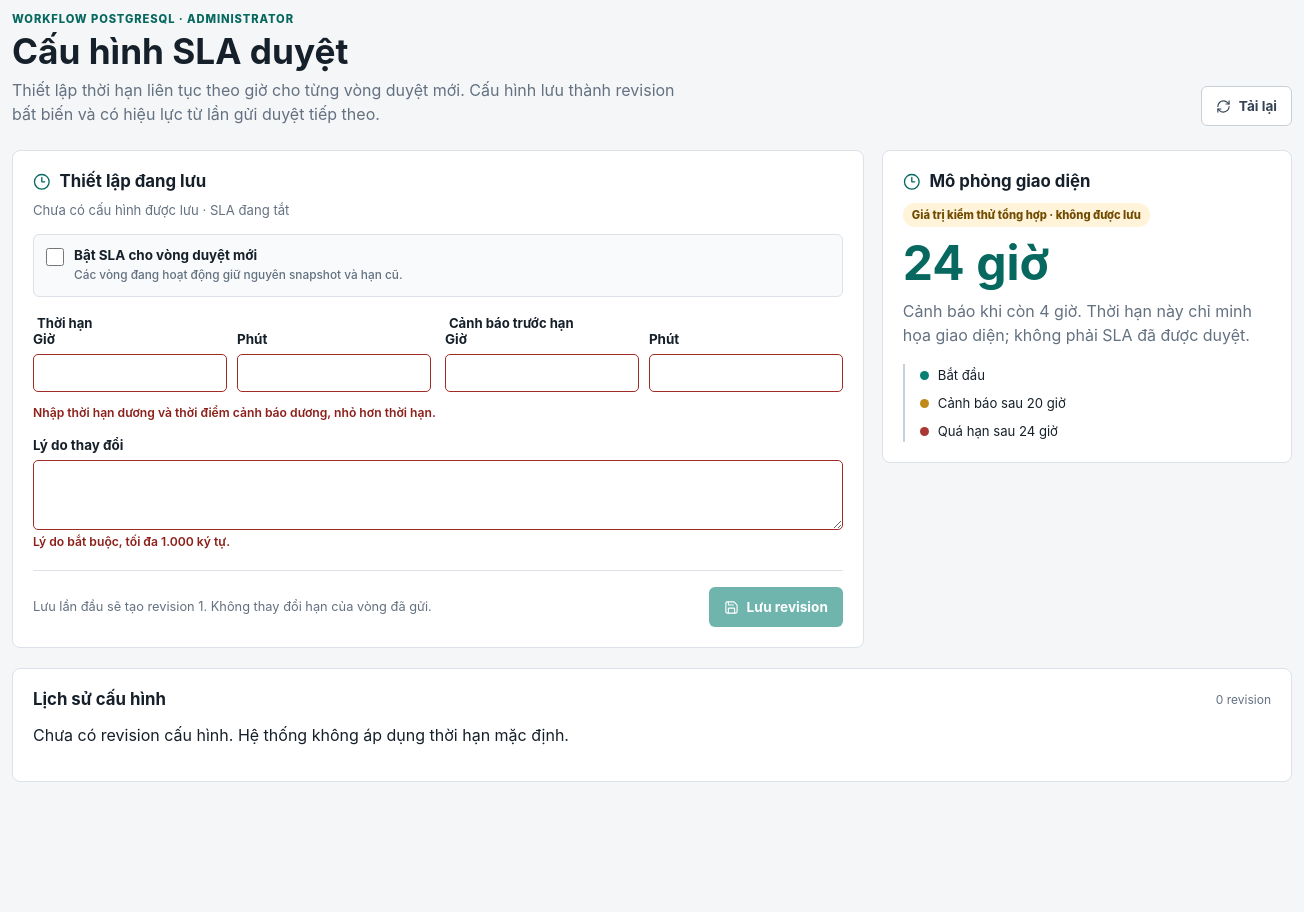
Test case: Admin SLA page › saves one explicit revision using the displayed expected revision
Expected: the heading "Cấu hình SLA duyệt" is shown, left=12, top=30, right=348, bottom=72
Type "24" into the 1st number field labelled "Giờ" at (130,373), box left=33, top=354, right=227, bottom=392
Type "0" into the 1st number field labelled "Phút" at (334,373), box left=237, top=354, right=431, bottom=392
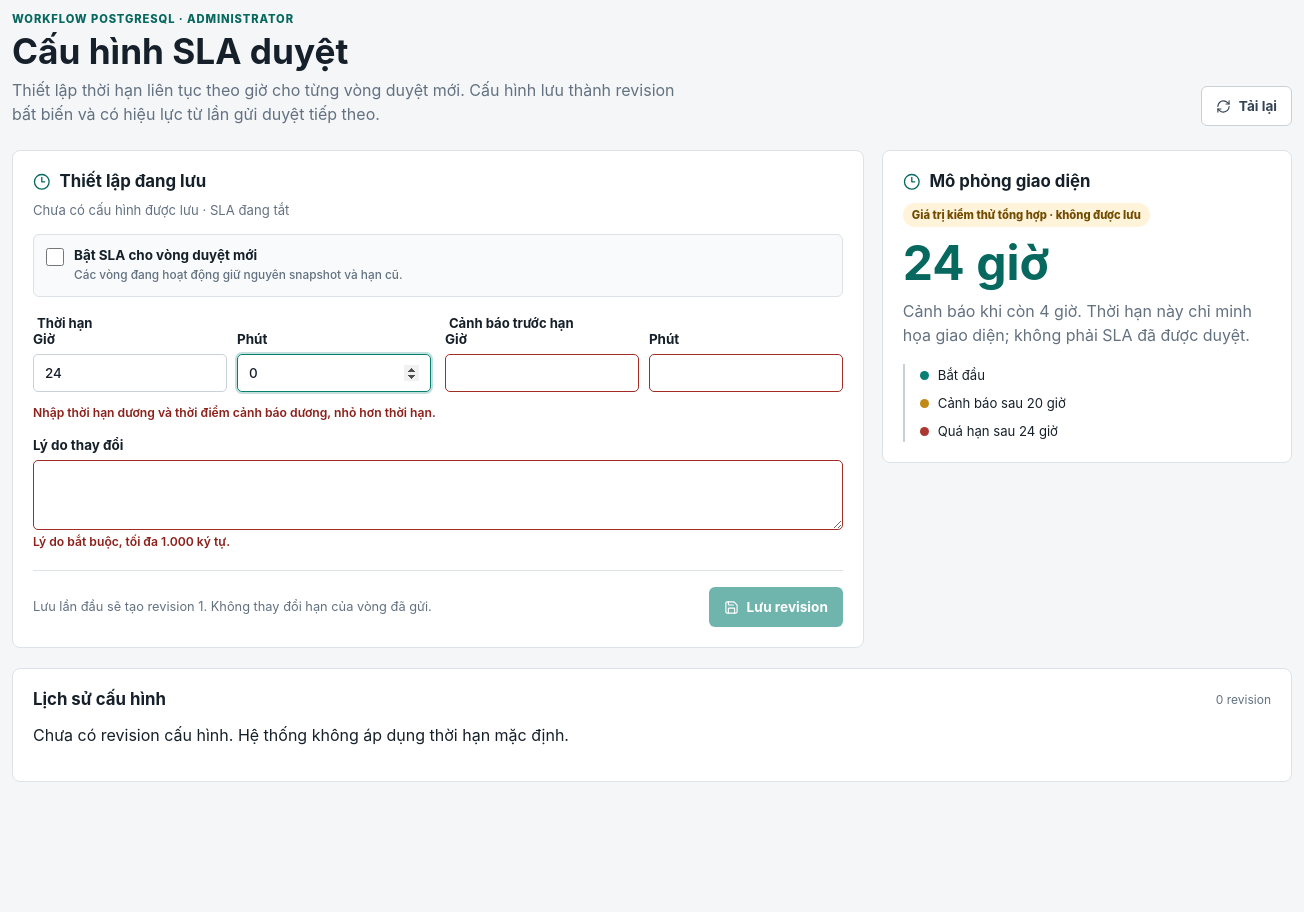
Type "4" into the number field labelled "Giờ" below "Cảnh báo trước hạn" at (542,373), box left=445, top=354, right=639, bottom=392
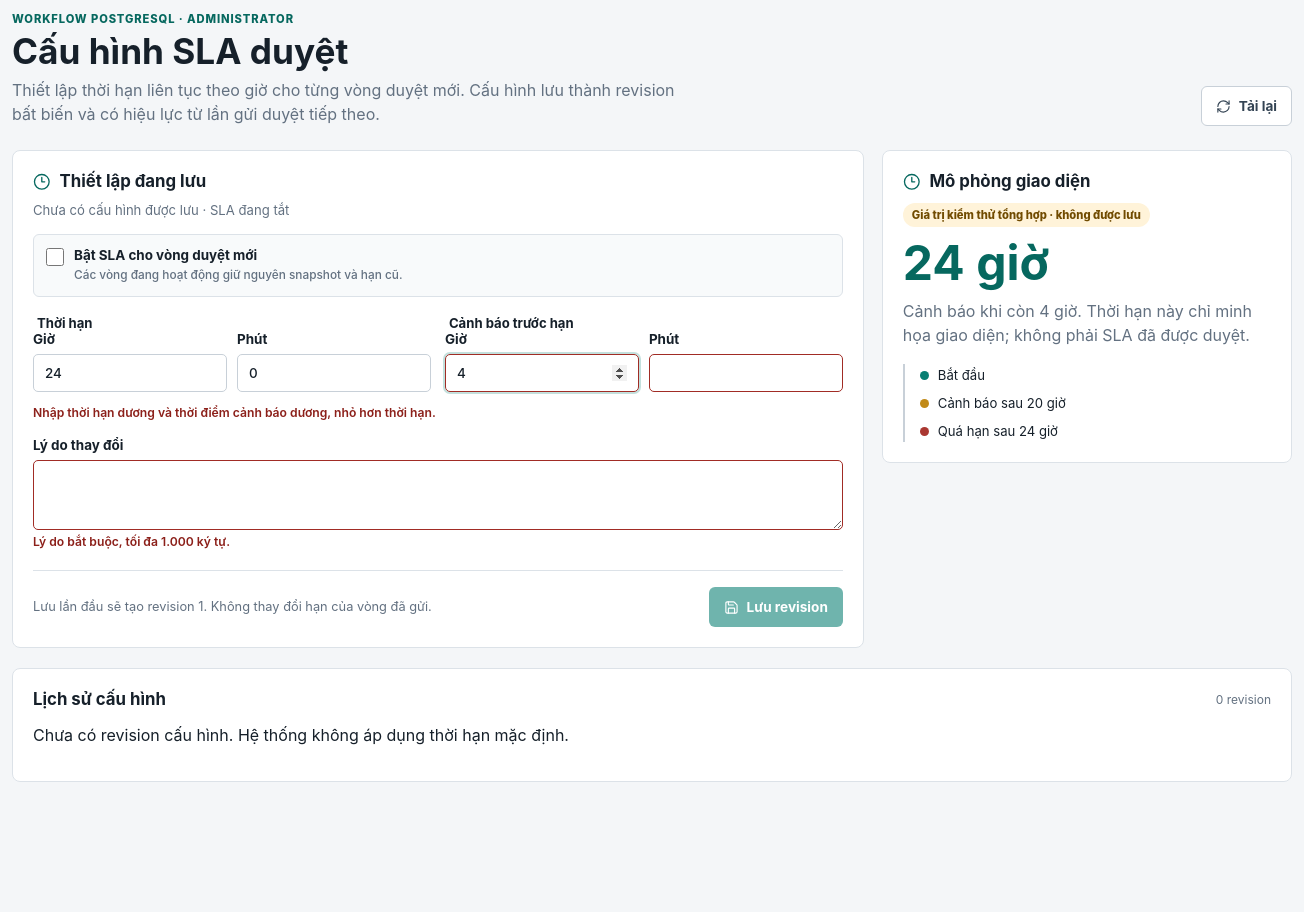
Type "0" into the number field labelled "Phút" below "Cảnh báo trước hạn" at (746,373), box left=649, top=354, right=843, bottom=392
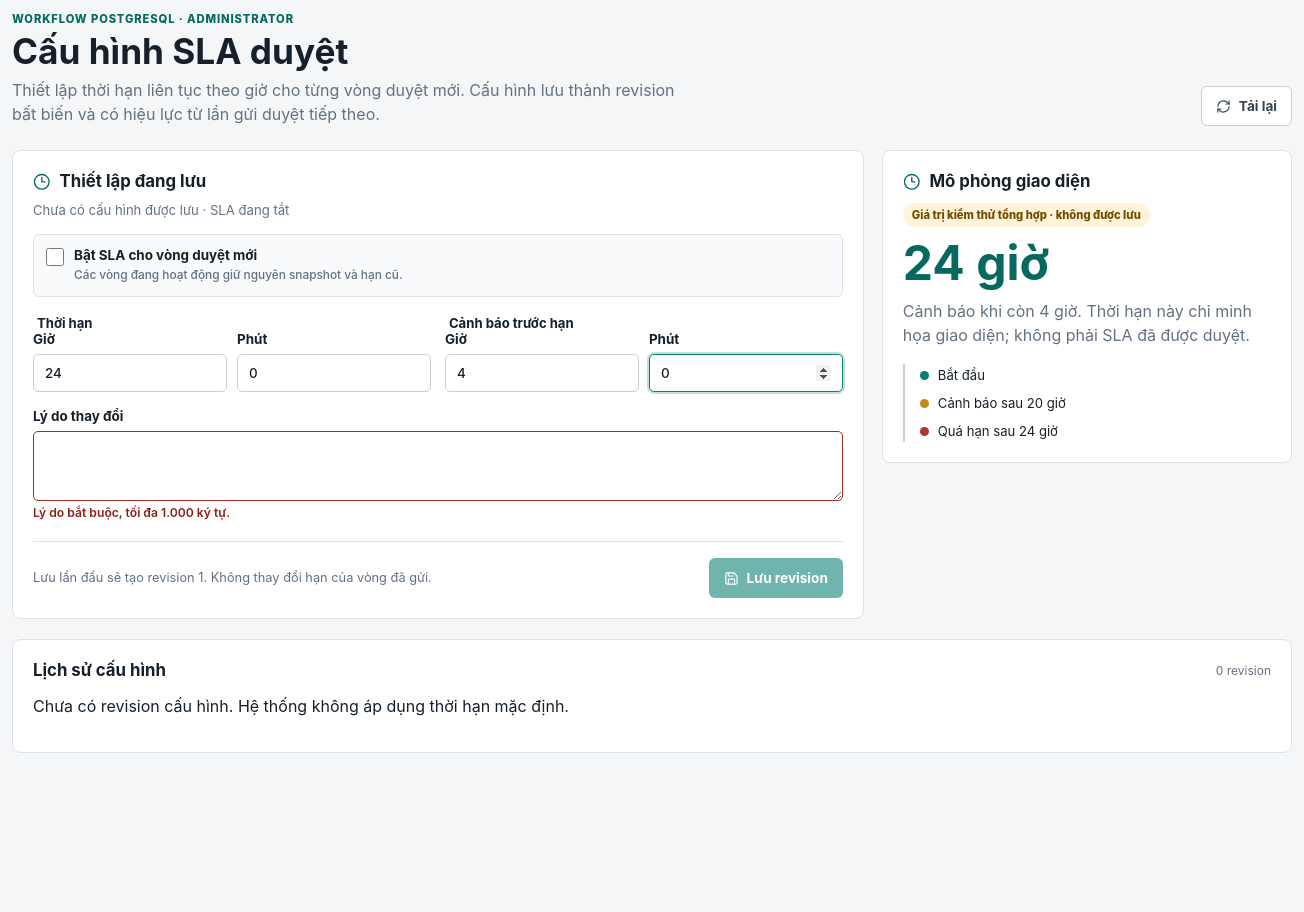
Click the checkbox labelled "Bật SLA cho vòng duyệt mới" at (55,258), box left=46, top=248, right=64, bottom=266
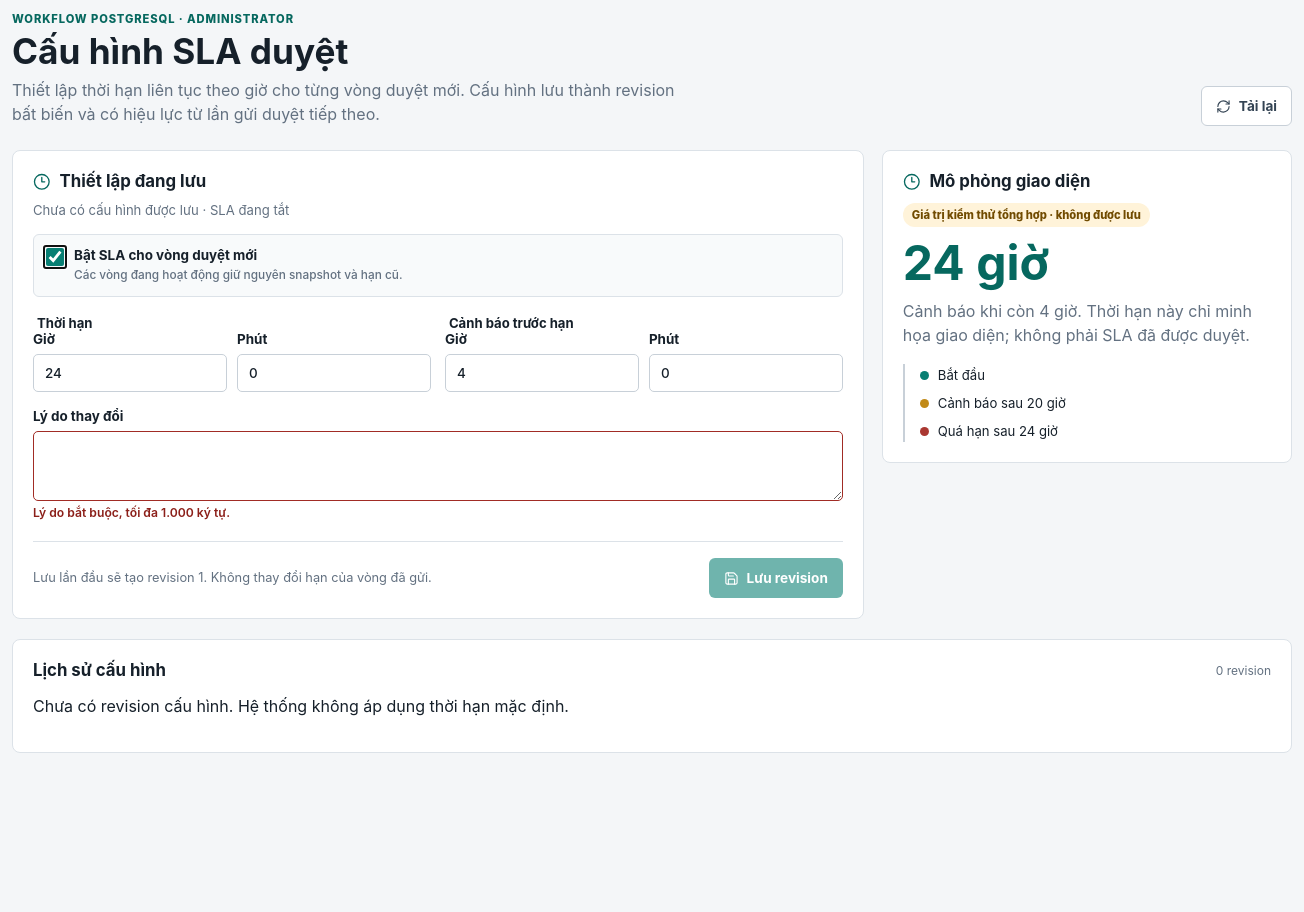
Type "Pilot" into the text box labelled "Lý do thay đổi" at (438,466), box left=33, top=431, right=843, bottom=501
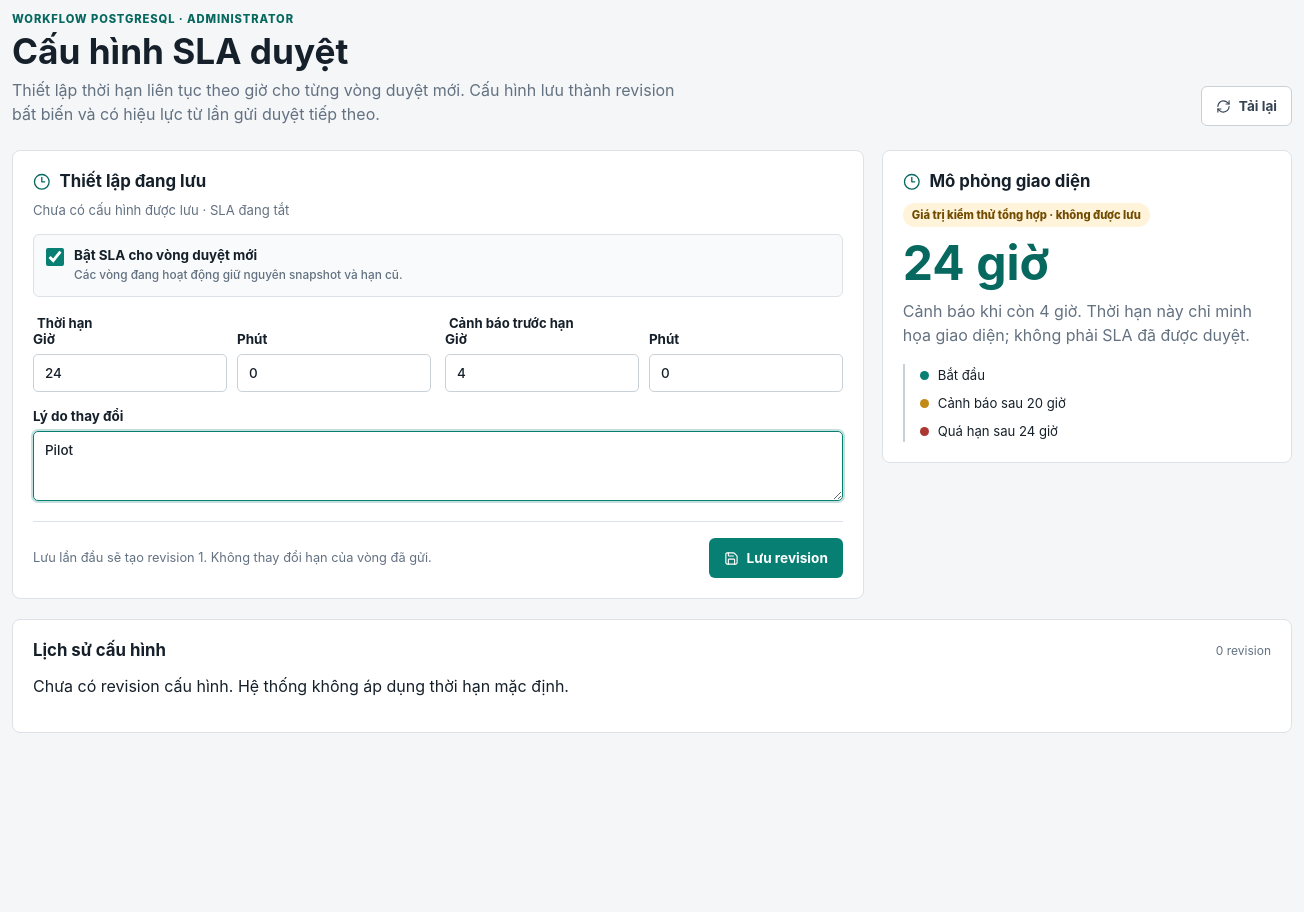
Click the button "Lưu revision" at (776,558), box left=709, top=538, right=843, bottom=578
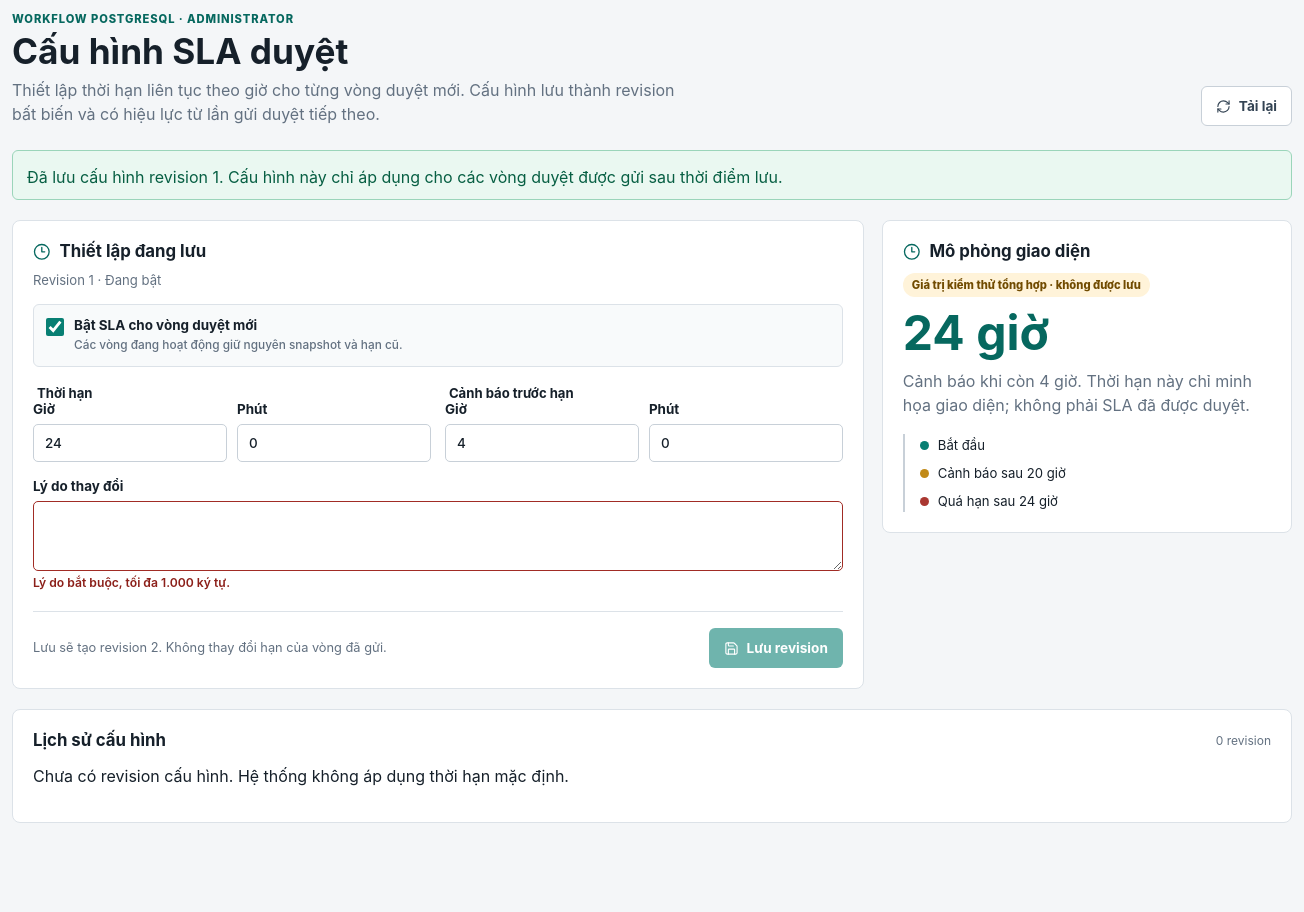
Result: the text "Đã lưu cấu hình revision 1" is shown at left=27, top=168, right=782, bottom=188
